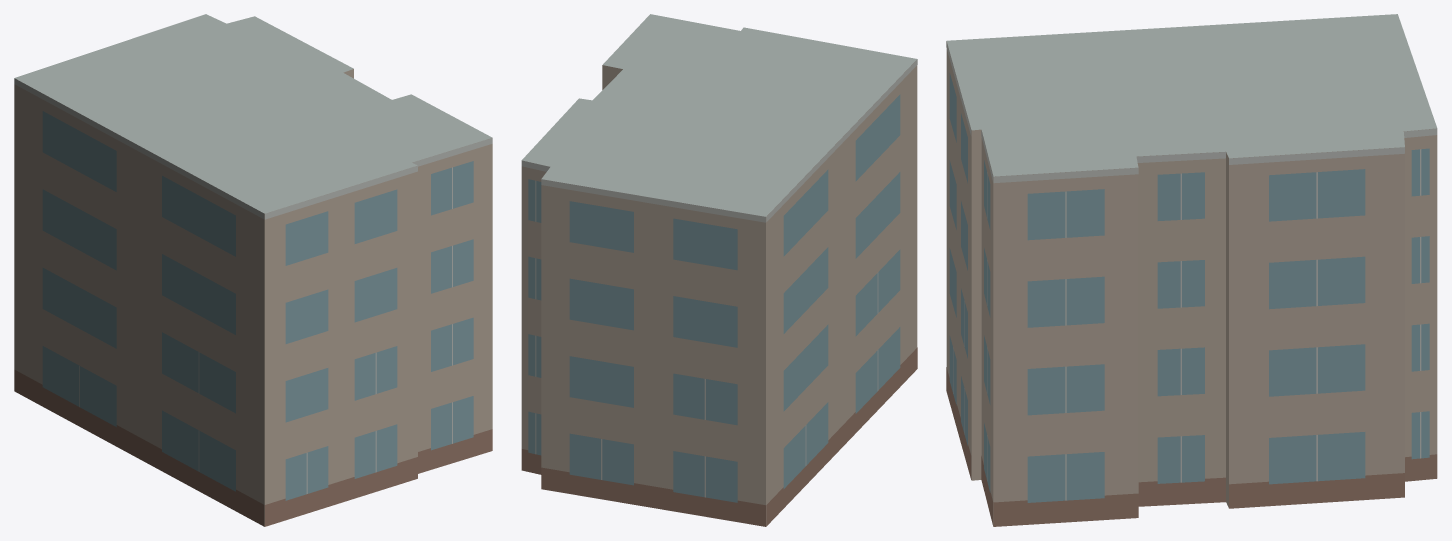
Rendered from survey-upis-32964219.glb.
The picture shows the model from 3 angles, left to right: view 1: azimuth 30°, elevation 25°; view 2: azimuth 150°, elevation 25°; view 3: azimuth 270°, elevation 25°; orthographic projection. The views are drawn at different scales.
Parts seen in each view (by area): view 1: survey-upis-32964219.tmp; view 2: survey-upis-32964219.tmp; view 3: survey-upis-32964219.tmp.
Boxes of the visible parts, box(x1,y1,x2,y2) form: survey-upis-32964219.tmp: box(14, 14, 492, 526); survey-upis-32964219.tmp: box(521, 14, 917, 526); survey-upis-32964219.tmp: box(946, 14, 1437, 526).
Bounding box in the file's own units: 12.75 × 12.8 × 16.27.
